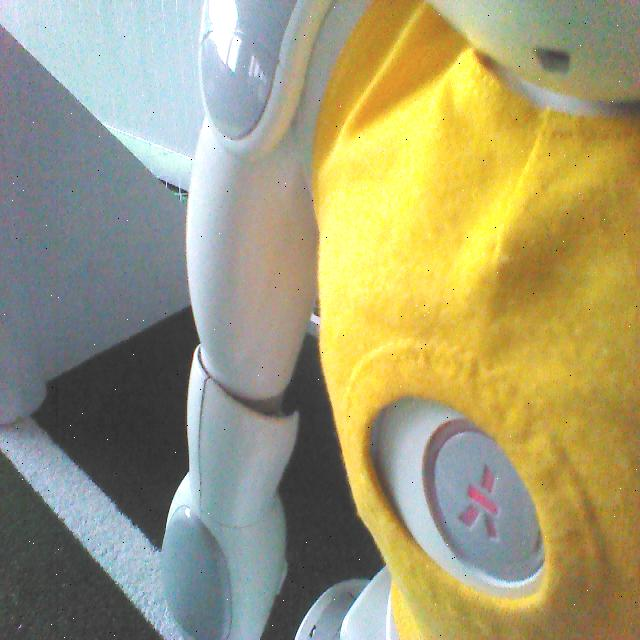goalpost: (0, 181, 49, 427)
